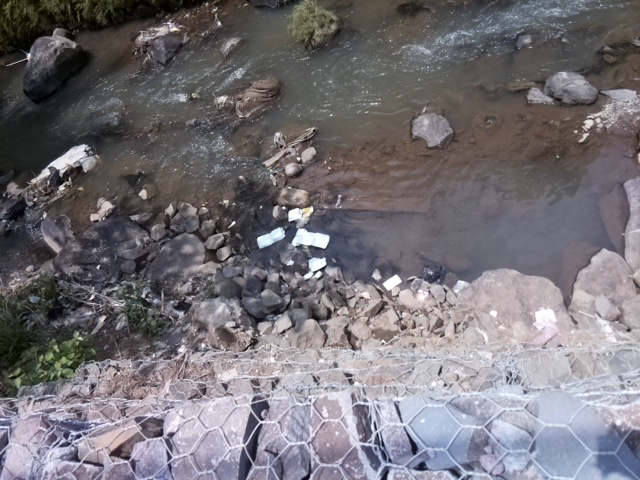Sampah_Plastik: (25, 143, 90, 193), (419, 263, 445, 283)
Sampah_Styrofoam: (292, 227, 330, 248), (255, 228, 285, 252), (306, 256, 329, 273), (382, 274, 405, 291), (287, 207, 305, 224)
